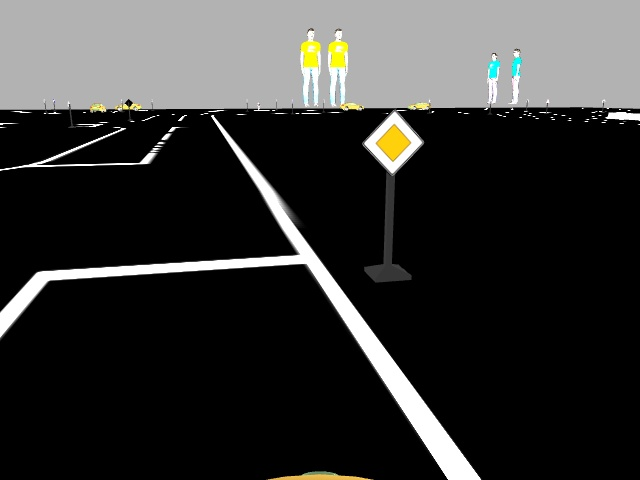Priority: (366, 108, 424, 174)
